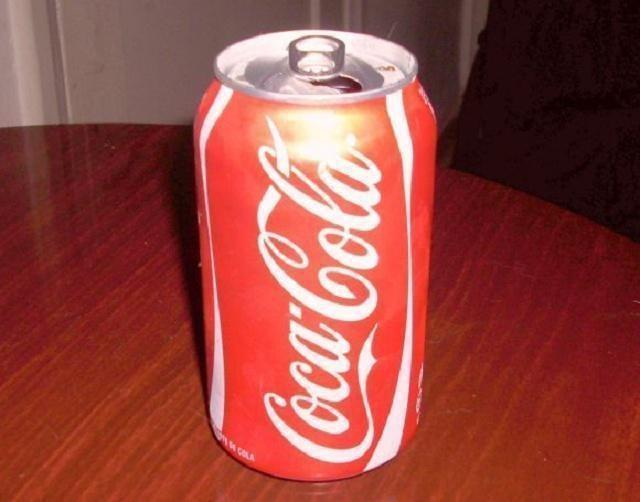tin can: (193, 28, 438, 486)
